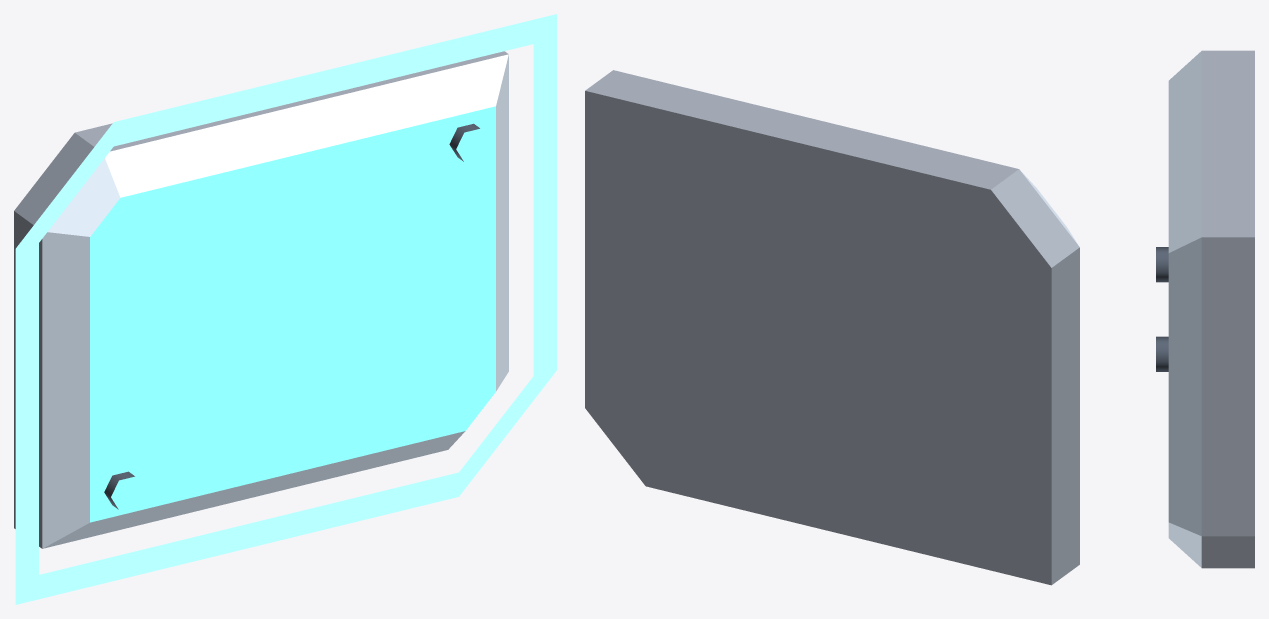
Rendered from space-navpod.glb.
The picture shows the model from 3 angles, left to right: view 1: azimuth 30°, elevation 25°; view 2: azimuth 150°, elevation 25°; view 3: azimuth 270°, elevation 25°; orthographic projection. The views are drawn at different scales.
Visible parts, largest first — view 1: PodPlate, PodFlare; view 2: PodPlate; view 3: PodPlate.
Part boxes in pixels (x1,y1,x2,y2): PodPlate: (14, 51, 508, 548); PodFlare: (15, 14, 556, 604); PodPlate: (585, 70, 1079, 585); PodPlate: (1156, 50, 1254, 568).
Size of the model in its own units: 1.16 by 0.94 by 0.195.
